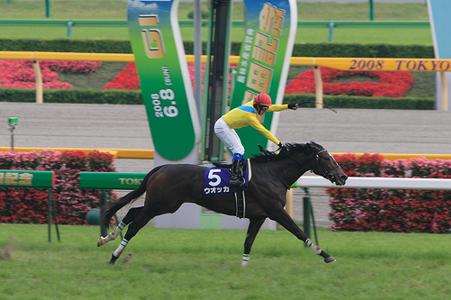person: (214, 92, 300, 186)
